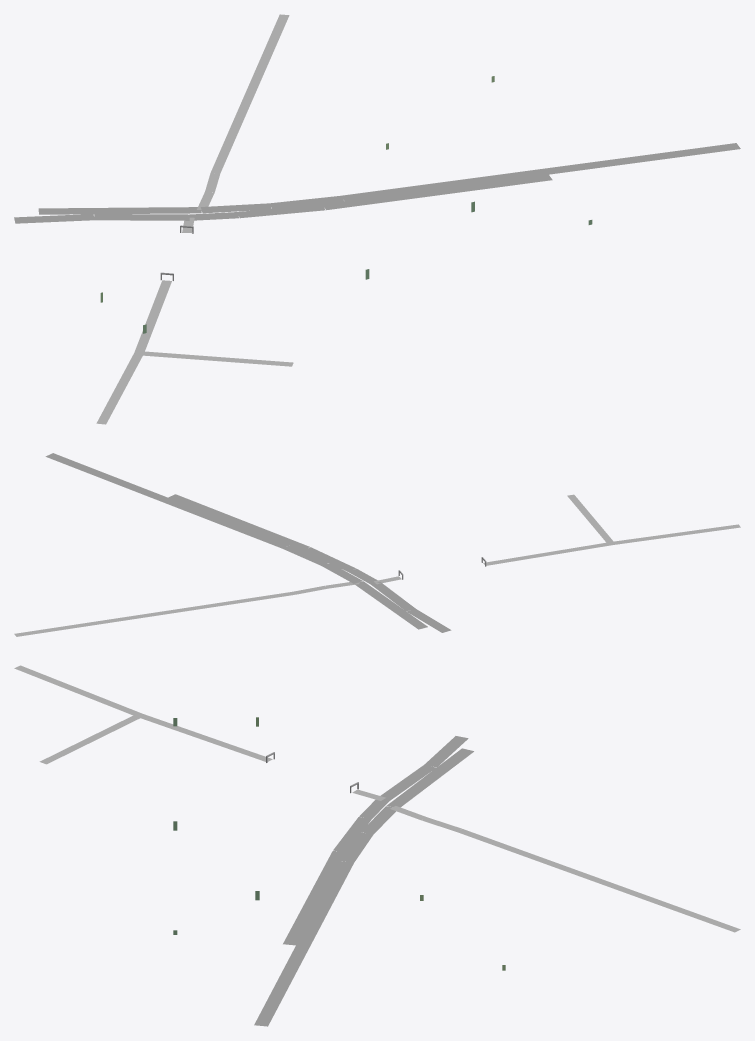
3 views of the same model, one above another, from view 1: azimuth 30°, elevation 25°; view 2: azimuth 150°, elevation 25°; view 3: azimuth 270°, elevation 25° (orthographic). The views are drawn at different scales.
Size of the model in its own units: 621 by 9.1 by 531.
